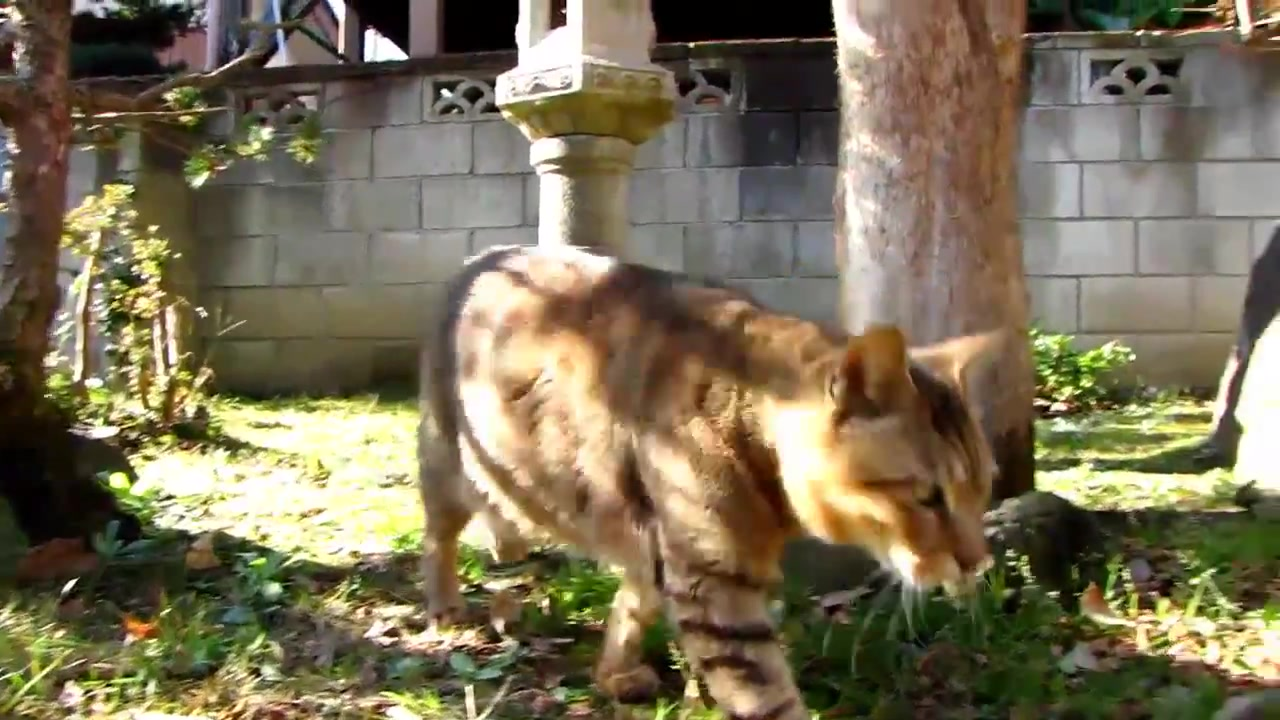cat: (412, 244, 1008, 720)
